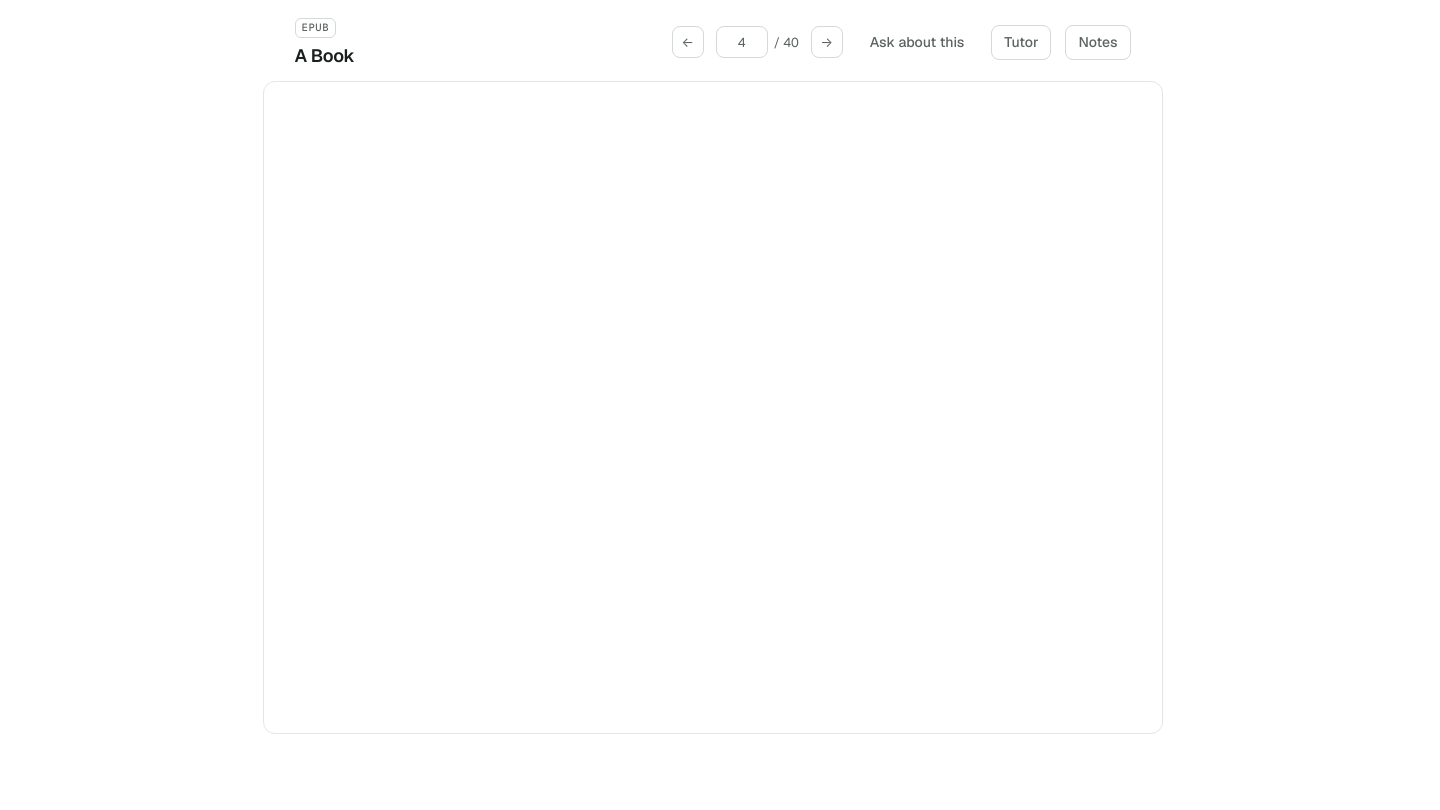
Test case: ReaderBody › offers Ask about this and sends the selection with page and section
Expected: the button "Tutor" is shown, 991,25 -> 1051,60
Click the button "Ask about this".
click(917, 42)  # box 857,25 -> 977,60
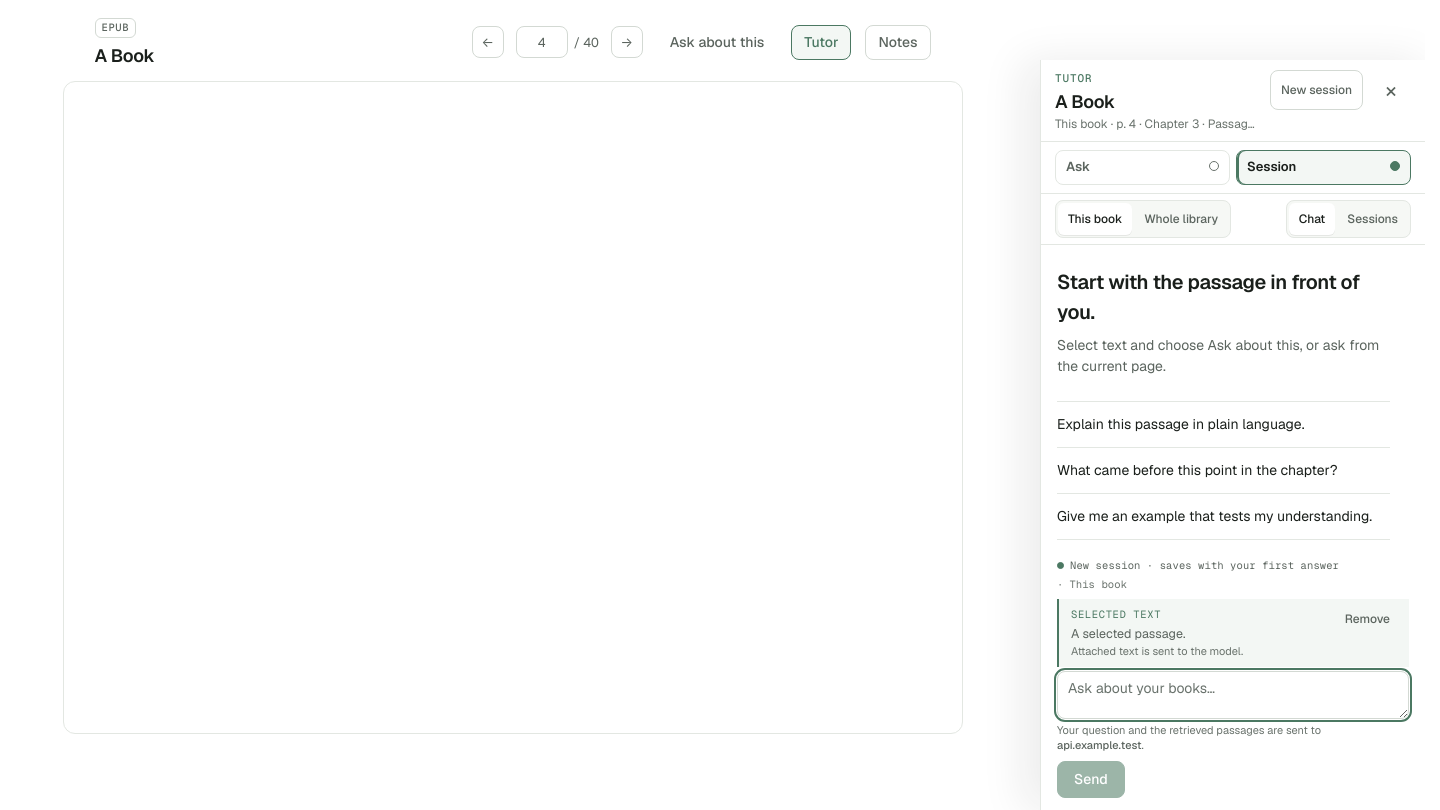
Now the text "Selected text" is shown, box 1071,607 -> 1161,621
Now the text "A selected passage." is shown, box 1071,625 -> 1185,642
Type "Explain this." into the text box named "Your question".
click(1233, 695); type("Explain this.")  # box 1057,671 -> 1409,719
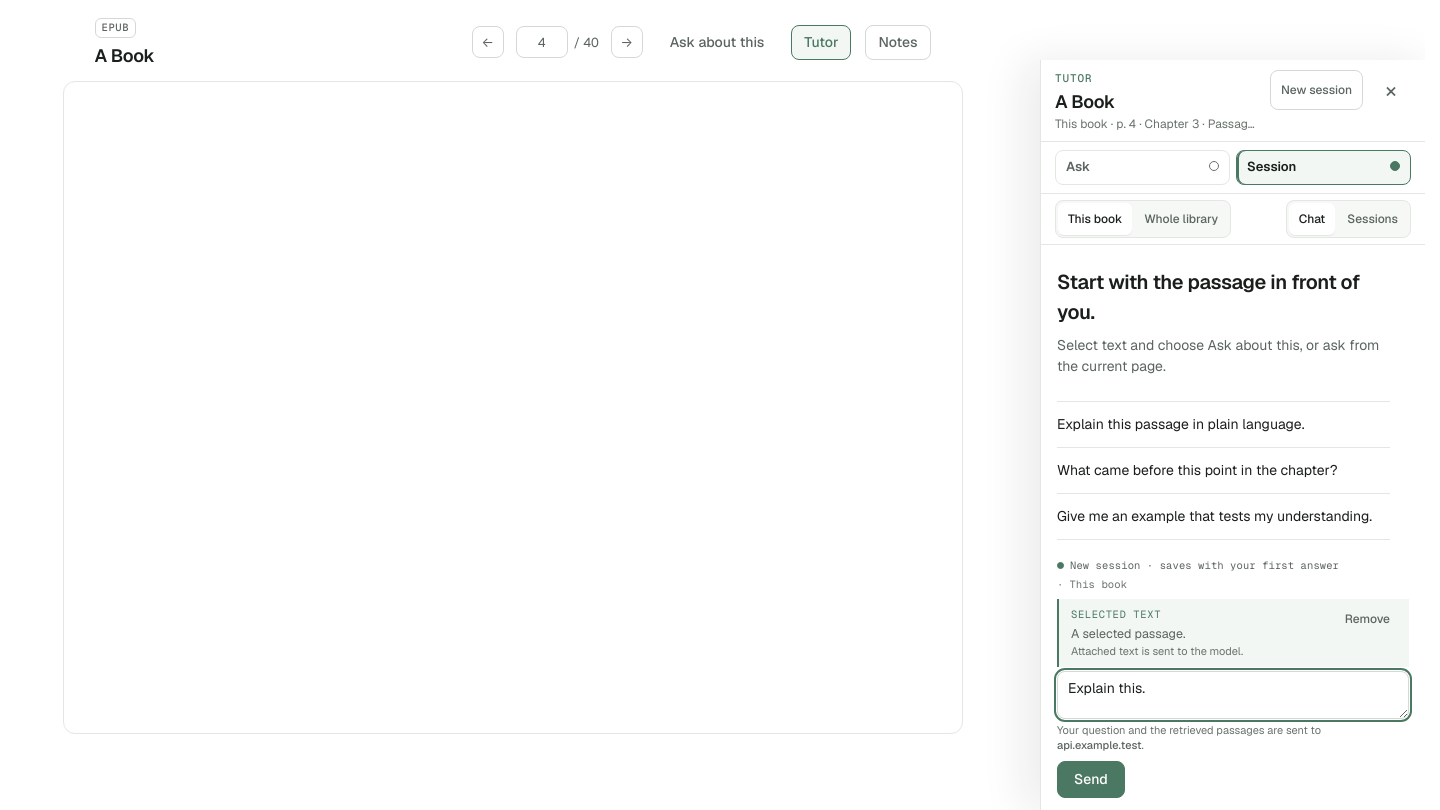
Click the button "Send".
click(1091, 780)  # box 1057,761 -> 1125,798
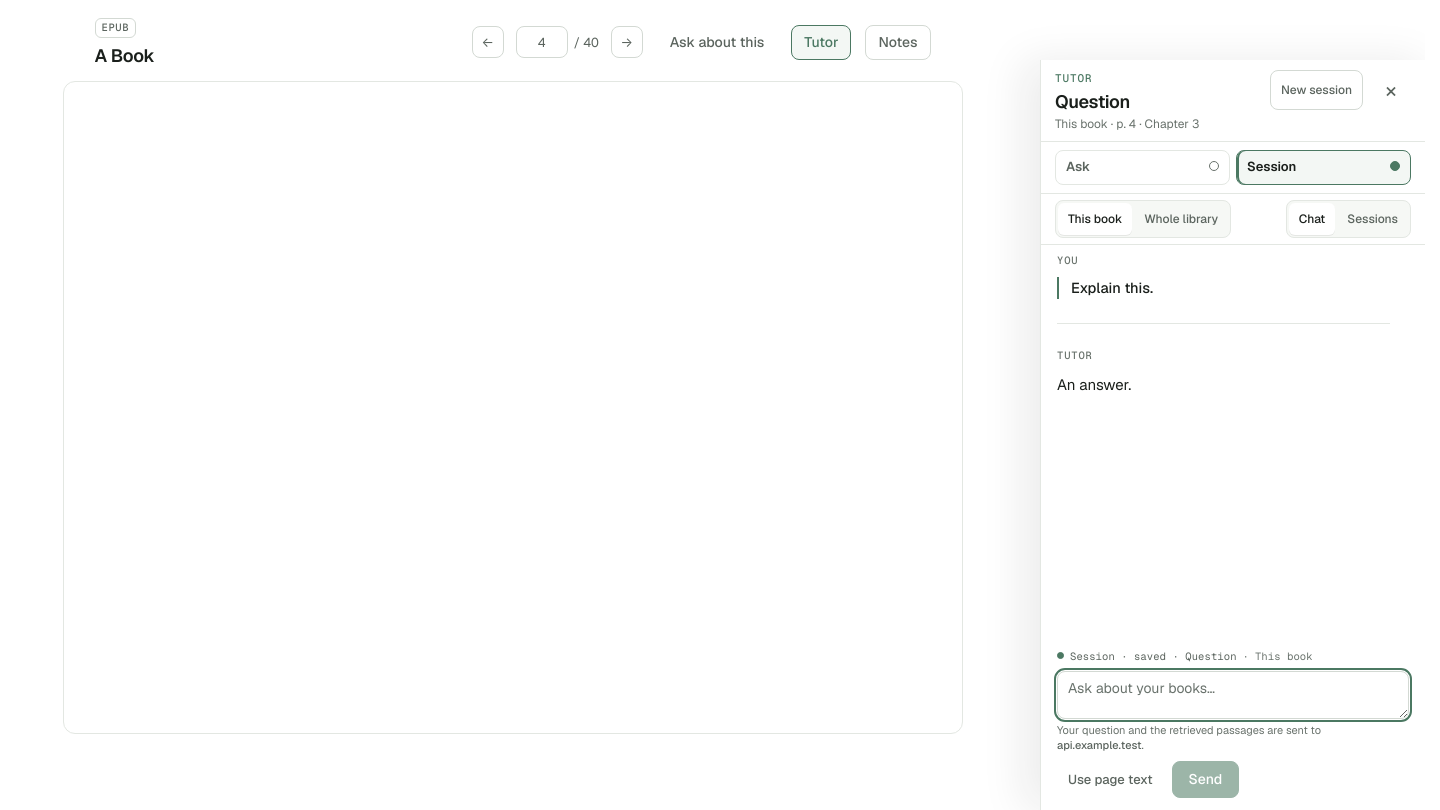
Now the text "An answer." is shown, box 1057,375 -> 1131,394
